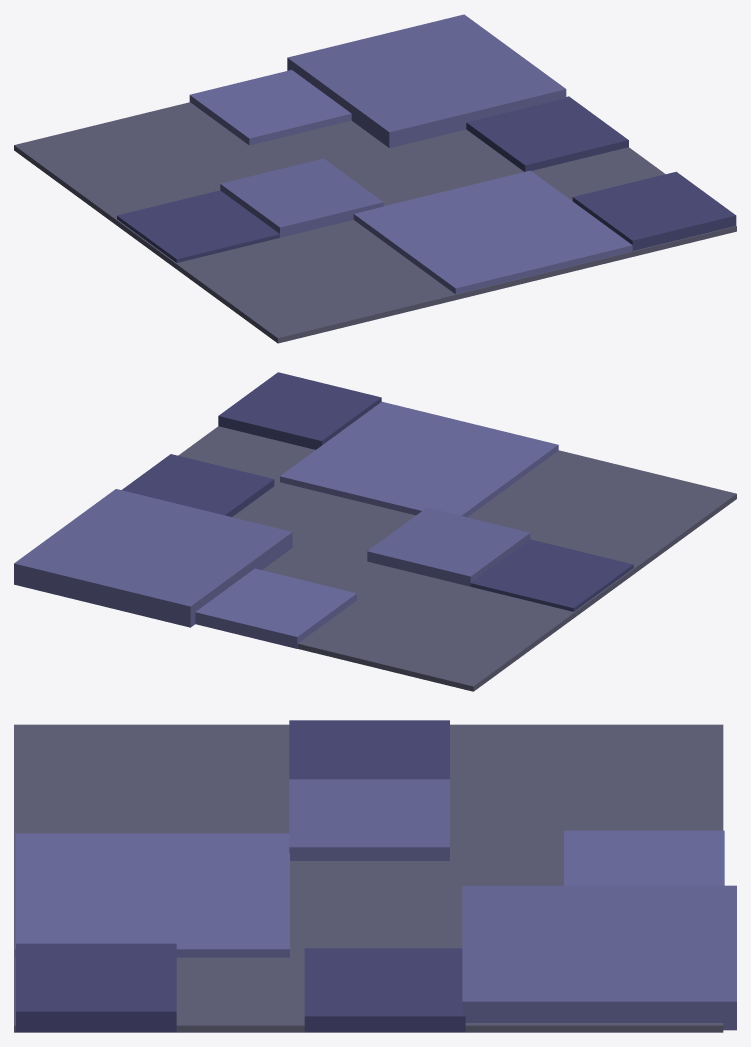
File: TileGround.fbx
The picture shows the model from 3 angles, top to bottom: view 1: azimuth 30°, elevation 25°; view 2: azimuth 150°, elevation 25°; view 3: azimuth 270°, elevation 25°; orthographic projection. The views are drawn at different scales.
Visible parts, largest first — view 1: group_pasted__pCube1; view 2: group_pasted__pCube1; view 3: group_pasted__pCube1.
Boxes of the visible parts, left/top/right/bottom form: group_pasted__pCube1: left=14, top=14, right=736, bottom=343; group_pasted__pCube1: left=14, top=372, right=736, bottom=691; group_pasted__pCube1: left=14, top=720, right=736, bottom=1032.
Size of the model in its own units: 242 by 10.65 by 245.
